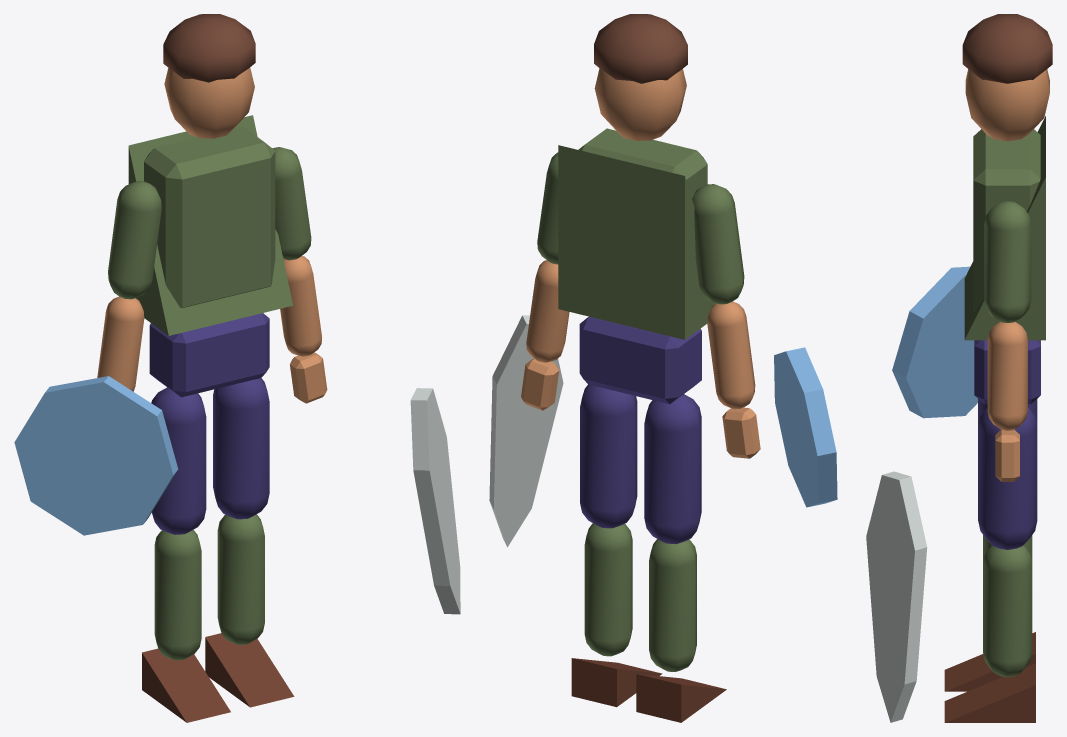
File: adventurer.rustic.glb
The picture shows the model from 3 angles, left to right: view 1: azimuth 30°, elevation 25°; view 2: azimuth 150°, elevation 25°; view 3: azimuth 270°, elevation 25°; orthographic projection.
Parts seen in each view (by area): view 1: accessory.off-hand, torso, pelvis, thigh.right, accessory.main-hand, tunic, shin.left, shin.right, thigh.left, hair, upper-arm.left, head (+6 smaller); view 2: tunic, accessory.main-hand, pelvis, thigh.left, thigh.right, accessory.off-hand, shin.right, shin.left, hair, upper-arm.left, head, forearm.left (+7 smaller); view 3: accessory.main-hand, accessory.off-hand, shin.right, thigh.right, torso, upper-arm.right, hair, head, tunic, forearm.right, foot.right, pelvis (+2 smaller).
Part boxes in pixels (x1,y1,x2,y2): accessory.off-hand: (14, 376, 178, 535); torso: (144, 126, 275, 307); pelvis: (149, 313, 269, 397); thigh.right: (213, 378, 269, 519); accessory.main-hand: (410, 388, 460, 614); tunic: (128, 115, 292, 335); shin.left: (154, 529, 201, 660); shin.right: (217, 514, 264, 644); thigh.left: (151, 387, 206, 534); hair: (163, 14, 255, 82); upper-arm.left: (108, 181, 161, 299); head: (164, 67, 254, 138); tunic: (558, 145, 715, 339); accessory.main-hand: (489, 315, 563, 547); pelvis: (579, 316, 701, 404); thigh.left: (644, 394, 701, 544); thigh.right: (580, 384, 637, 528); accessory.off-hand: (774, 347, 837, 507); shin.right: (584, 523, 632, 656); shin.left: (649, 539, 696, 671); hair: (594, 14, 687, 83); upper-arm.left: (692, 184, 744, 304); head: (594, 68, 686, 140); forearm.left: (707, 301, 755, 409); accessory.main-hand: (866, 471, 927, 722); accessory.off-hand: (892, 266, 977, 418); shin.right: (983, 545, 1032, 677); thigh.right: (978, 407, 1037, 549); torso: (973, 129, 1040, 311); upper-arm.right: (984, 201, 1031, 322); hair: (962, 14, 1052, 83); head: (965, 69, 1049, 141); tunic: (964, 116, 1045, 340); forearm.right: (987, 321, 1027, 430); foot.right: (944, 663, 1035, 722); pelvis: (974, 340, 1040, 404).
Size of the model in its own units: 1.87 by 3.03 by 0.7564.
